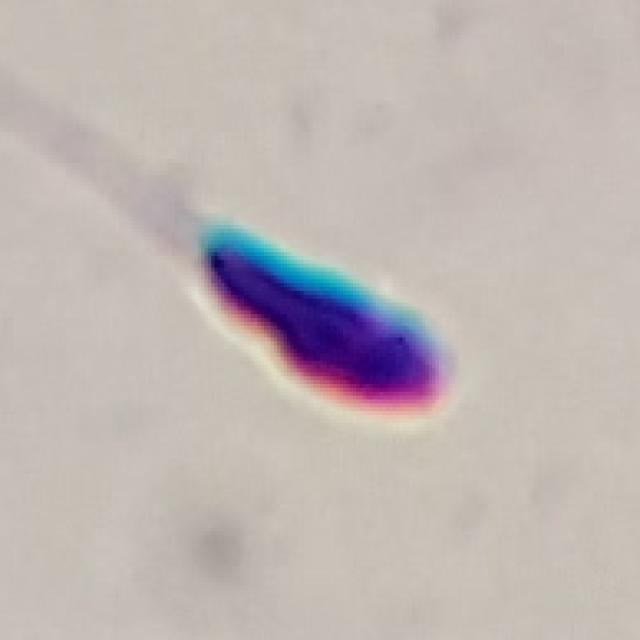abnormal sperm: (86, 86, 492, 466)
